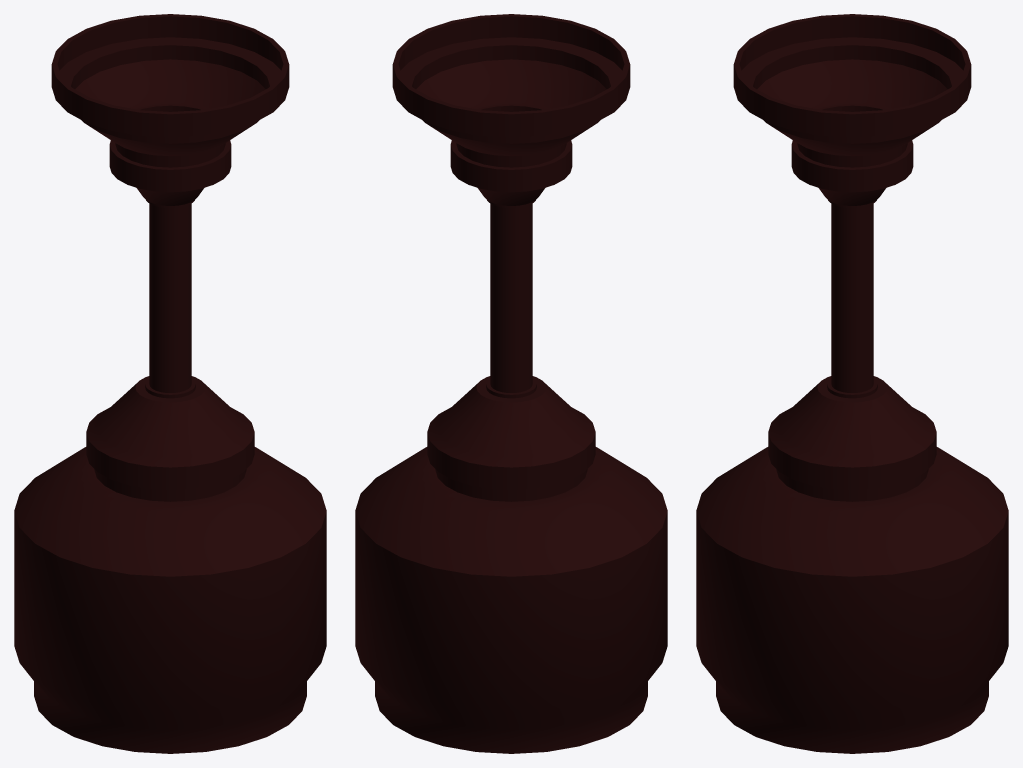
The model's file is SM_CylinderTank-Medium_E.fbx.
3 views of the same model, side by side, from view 1: azimuth 30°, elevation 25°; view 2: azimuth 150°, elevation 25°; view 3: azimuth 270°, elevation 25° (orthographic).
Parts seen in each view (by area): view 1: SM_CylinderTank-Medium_E; view 2: SM_CylinderTank-Medium_E; view 3: SM_CylinderTank-Medium_E.
Boxes of the visible parts, <box> form: SM_CylinderTank-Medium_E: <box>14,14,326,753</box>; SM_CylinderTank-Medium_E: <box>355,14,667,753</box>; SM_CylinderTank-Medium_E: <box>696,14,1008,753</box>.
Size of the model in its own units: 269 by 269 by 600.
